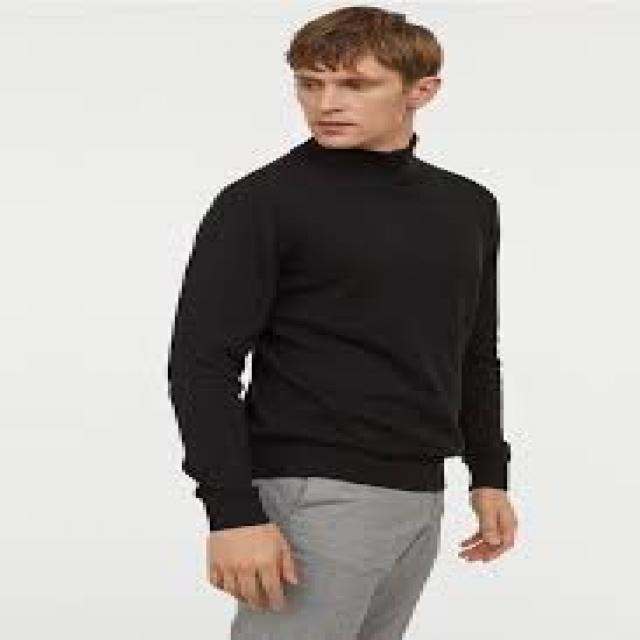plain: (163, 133, 520, 495)
